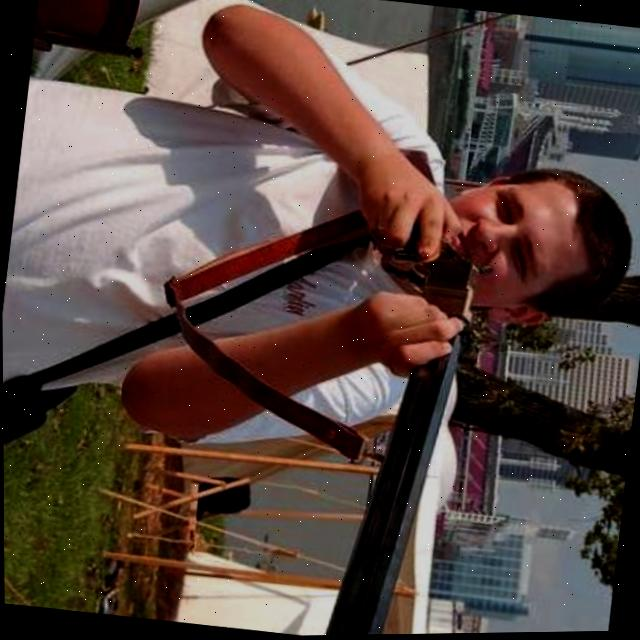rifle: (280, 165, 493, 637)
